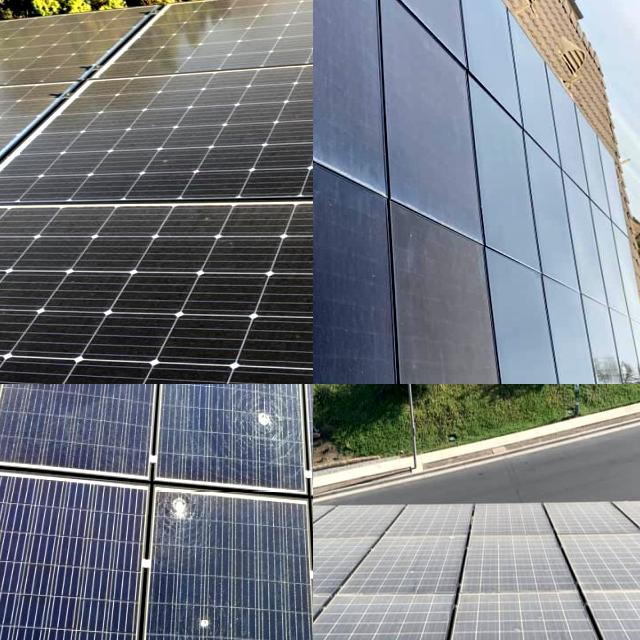crack: (27, 80, 313, 210), (93, 225, 313, 384), (65, 0, 313, 139), (0, 292, 258, 384)
dust: (455, 213, 640, 367), (313, 233, 427, 326), (313, 147, 448, 218), (322, 508, 541, 536), (333, 365, 640, 384), (520, 145, 640, 187), (467, 599, 574, 640), (313, 347, 424, 384), (328, 601, 428, 640), (479, 536, 564, 580), (386, 533, 452, 588), (576, 548, 640, 574), (569, 506, 640, 529), (313, 509, 334, 580), (313, 546, 332, 586)
hotspot: (241, 384, 296, 453), (158, 479, 199, 538), (184, 590, 228, 640)
